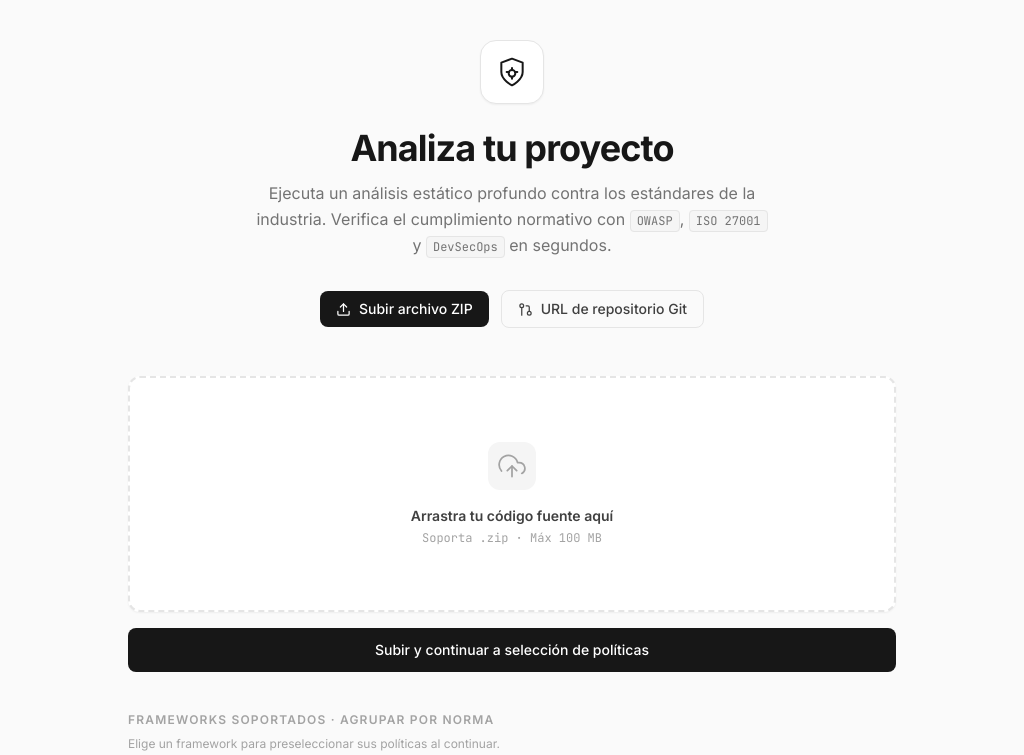
Test: Dashboard: clone from a Git URL › explains which token to create once the URL is a p2tools one
Click the button "URL de repositorio Git".
click(602, 309)  # box left=501, top=290, right=704, bottom=328
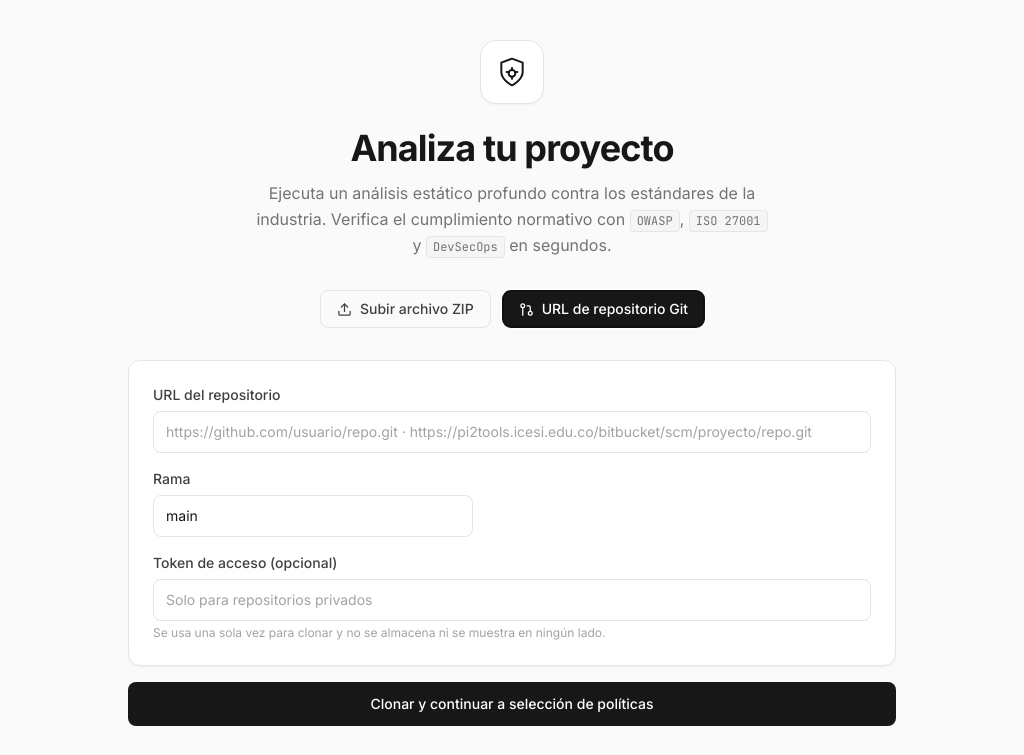
Type "https://pi2tools.icesi.edu.co/bitbucket/scm/segsoft/segsoft-backend.git" into the field labelled "URL del repositorio".
click(512, 432); type("https://pi2tools.icesi.edu.co/bitbucket/scm/segsoft/segsoft-backend.git")  # box left=153, top=411, right=871, bottom=453
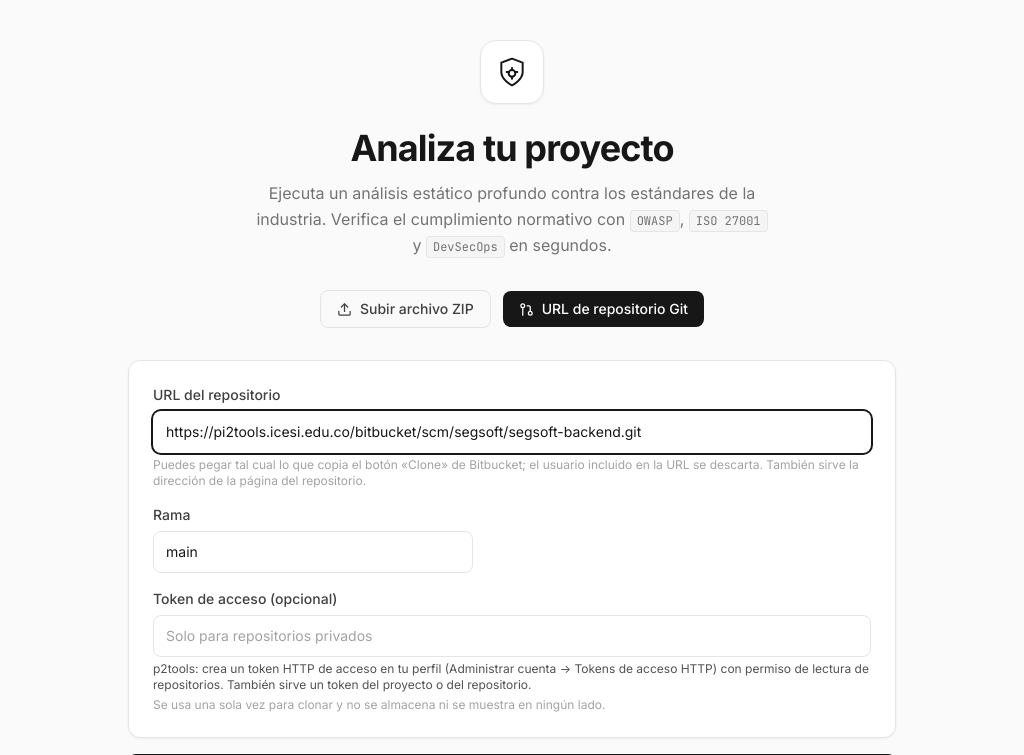
Result: the text "p2tools: crea un token HTTP de acceso" is shown at left=153, top=661, right=869, bottom=692
Result: the text "también sirve la dirección de la página del repositorio" is shown at left=153, top=457, right=859, bottom=488
